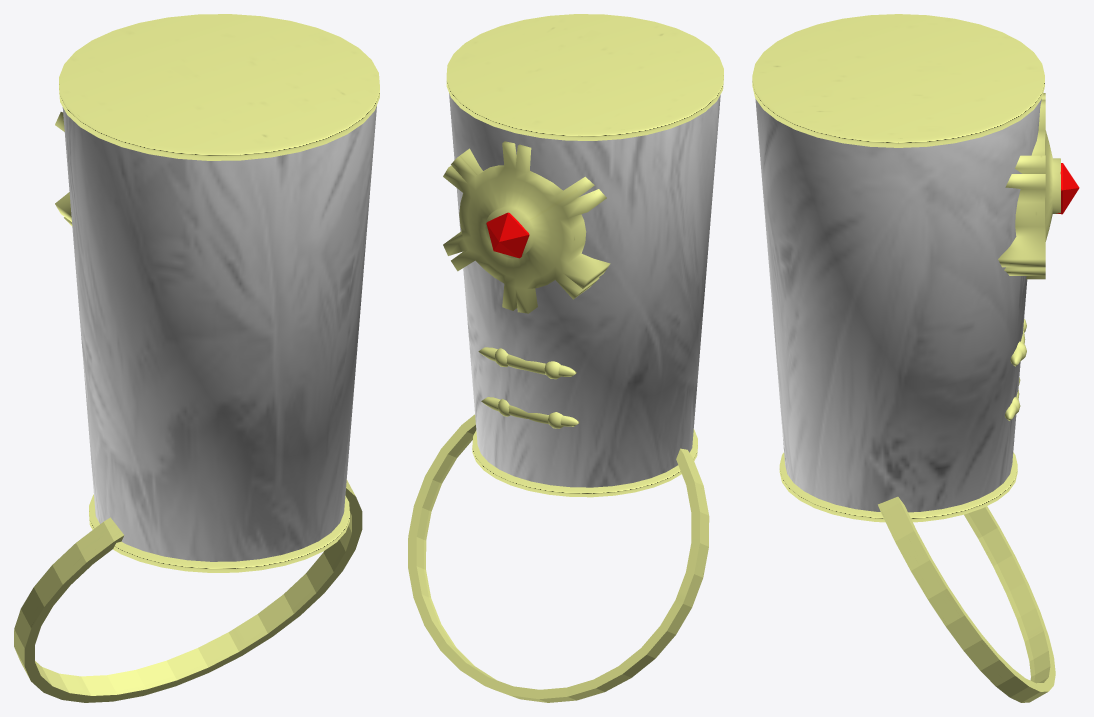
Rendered from item-nutcracker-hat.glb.
3 renders of one model, left to right at view 1: azimuth 30°, elevation 25°; view 2: azimuth 150°, elevation 25°; view 3: azimuth 270°, elevation 25°, orthographic. The views are drawn at different scales.
Bounding box in the file's own units: 0.2457 × 0.4848 × 0.236.
4 materials, 3 textured.
